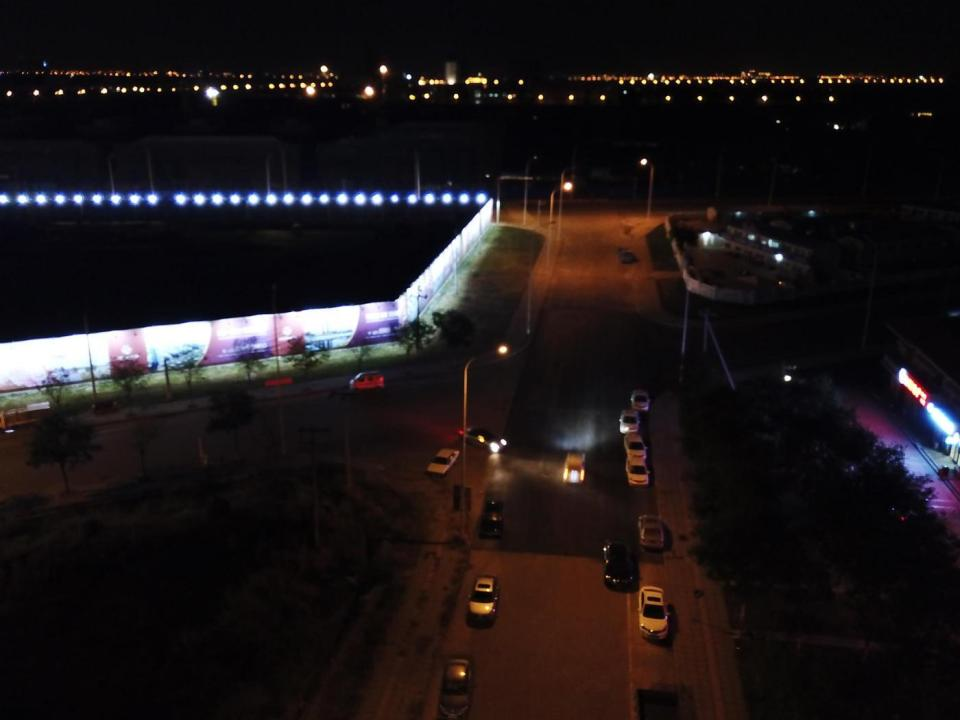car: (439, 657, 473, 720), (602, 536, 636, 588), (638, 586, 670, 641), (0, 401, 53, 430), (467, 575, 498, 623), (458, 425, 506, 453), (426, 448, 460, 477), (638, 514, 664, 550), (480, 500, 503, 538), (562, 450, 587, 483), (625, 456, 650, 486), (623, 433, 647, 460), (618, 409, 640, 434), (630, 389, 651, 412), (91, 401, 119, 413), (618, 247, 634, 263)
van: (349, 370, 385, 392)
